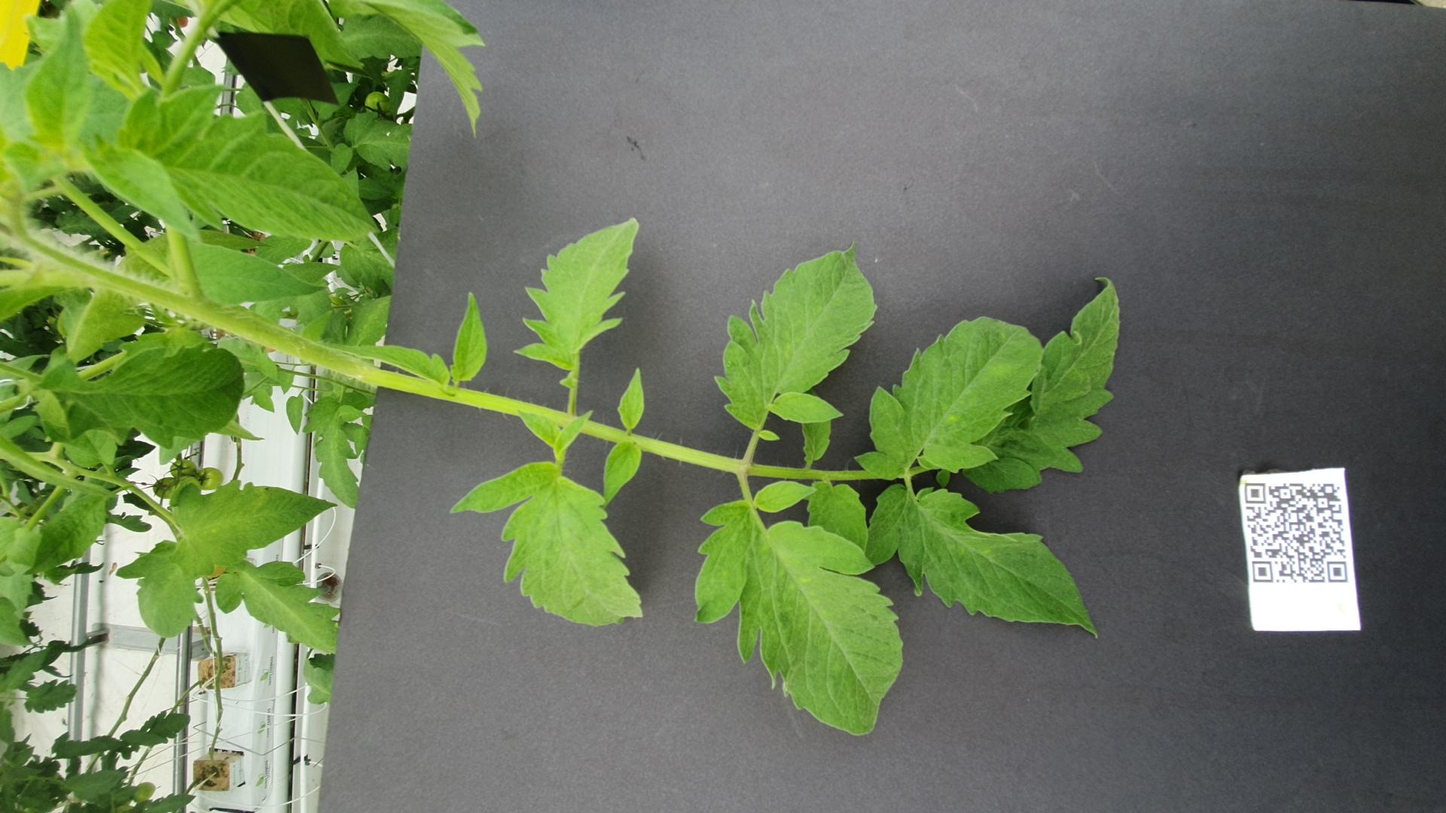Healthy: (135, 389, 591, 508), (1022, 65, 1291, 215), (568, 541, 957, 637), (310, 487, 589, 619), (328, 252, 626, 363), (590, 478, 884, 587), (680, 400, 1020, 494), (643, 20, 834, 138), (785, 286, 1064, 361), (415, 95, 593, 190), (281, 120, 453, 192), (1004, 47, 1196, 110), (904, 106, 1022, 186), (308, 64, 486, 115), (541, 170, 739, 207), (419, 12, 565, 61), (471, 453, 594, 488), (763, 252, 932, 276), (541, 335, 662, 361), (682, 344, 794, 363), (673, 160, 743, 171)
